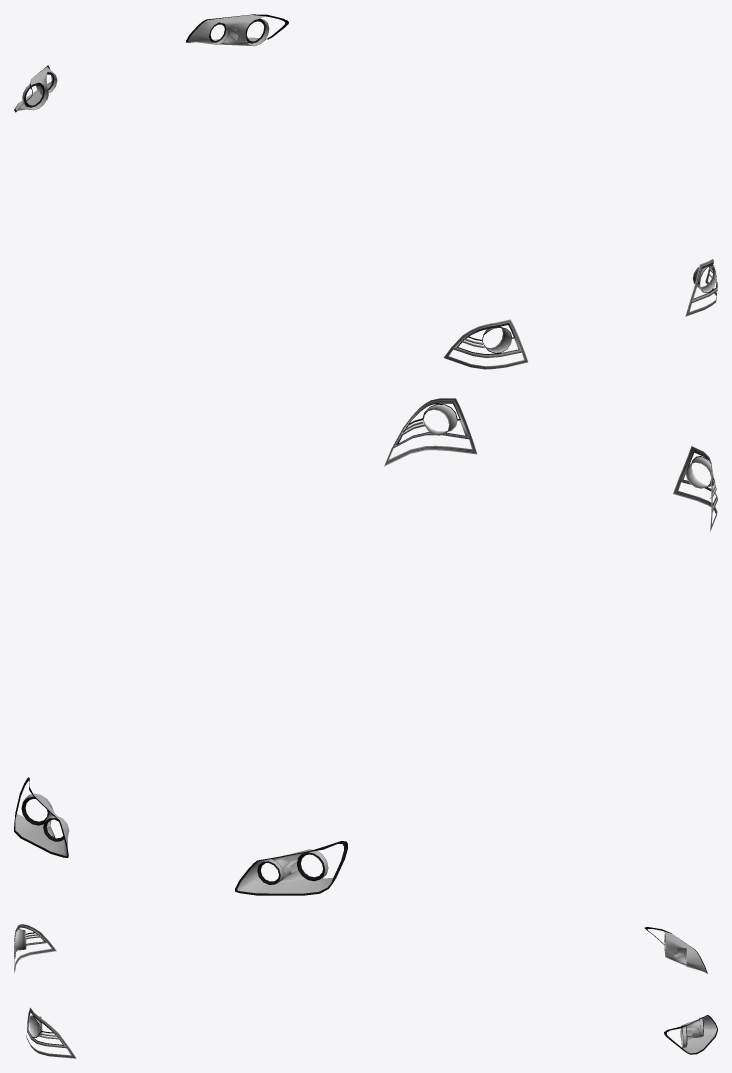
Rendered from tozzo98_trimstock_ucb_bottom_lt_0.005_lev3.glb.
3 views of the same model, one above another, from view 1: azimuth 30°, elevation 25°; view 2: azimuth 150°, elevation 25°; view 3: azimuth 270°, elevation 25° (orthographic). The views are drawn at different scales.
Parts seen in each view (by area): view 1: tozzo98_trimstock_ucb_bottom_lt_0.005_lev3; view 2: tozzo98_trimstock_ucb_bottom_lt_0.005_lev3; view 3: tozzo98_trimstock_ucb_bottom_lt_0.005_lev3.
Part boxes in pixels (box(x1,y1,x2,y2)): tozzo98_trimstock_ucb_bottom_lt_0.005_lev3: box(14, 14, 717, 369); tozzo98_trimstock_ucb_bottom_lt_0.005_lev3: box(14, 398, 717, 895); tozzo98_trimstock_ucb_bottom_lt_0.005_lev3: box(14, 924, 717, 1058).
Size of the model in its own units: 1.79 by 0.3775 by 4.2.
Materials: 1 (1 with a texture image).
